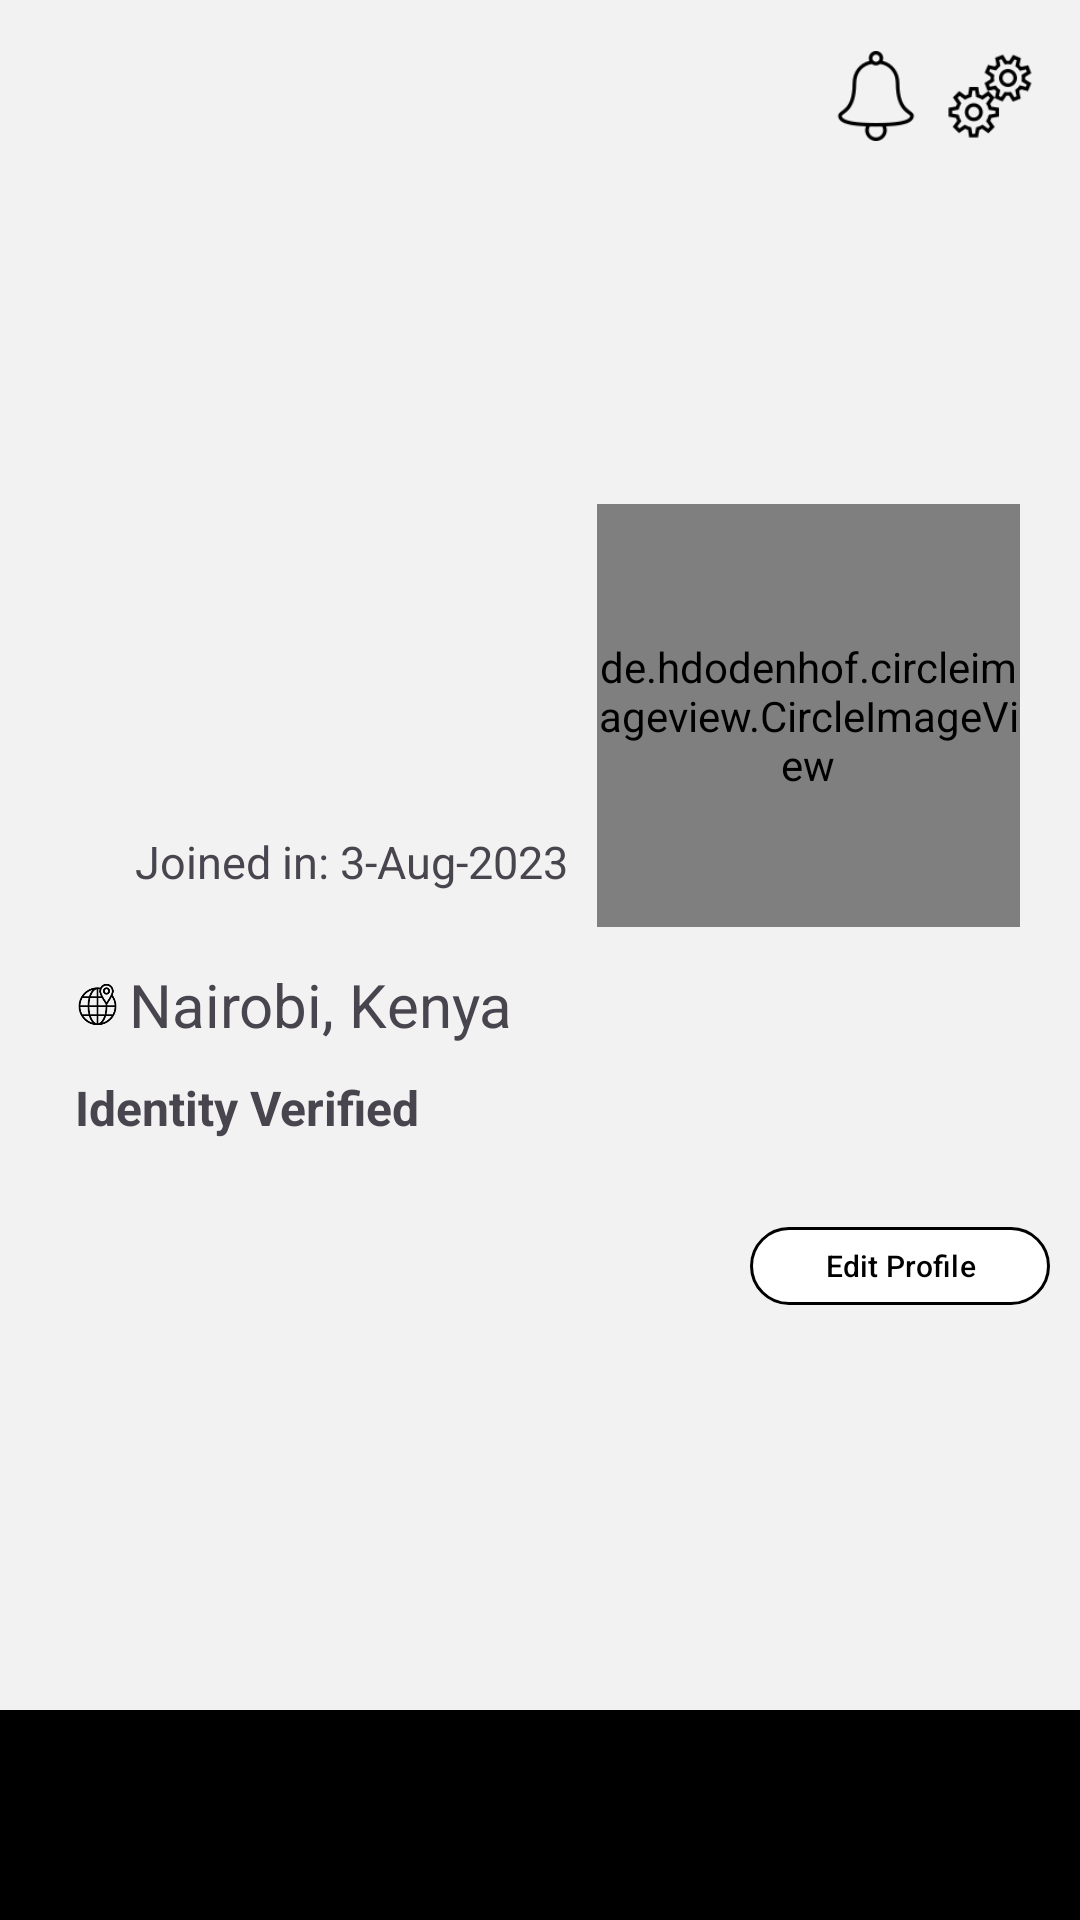

Where icons sit on this 1080px x 1920px app screen, as Rect(x1, y1, x2, y2):
location: Rect(78, 984, 117, 1025)
notification: Rect(837, 51, 915, 141)
settings: Rect(948, 54, 1032, 138)
